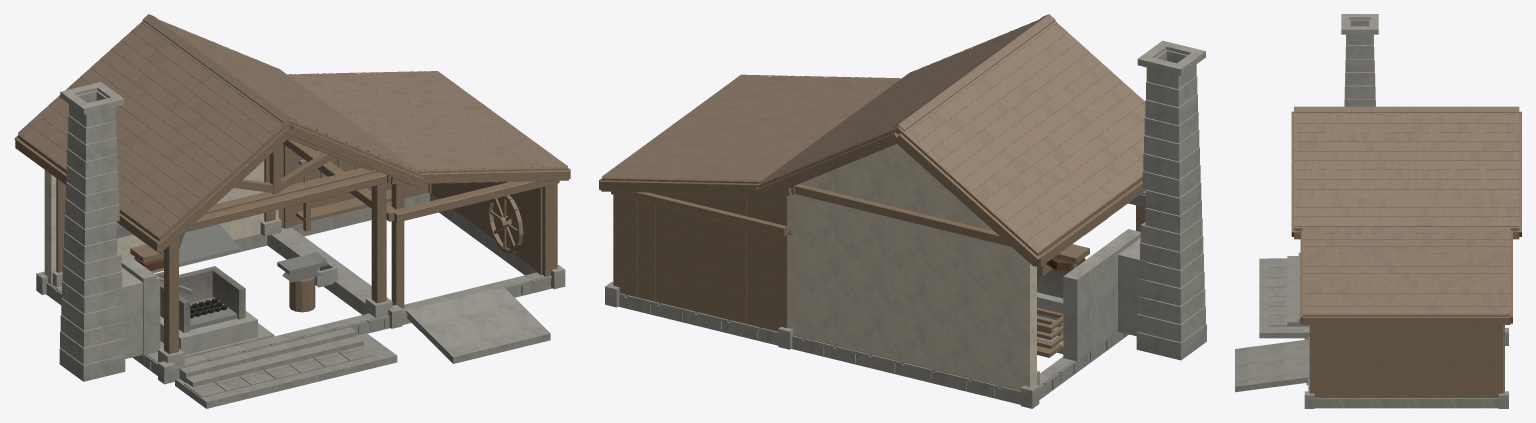
Rendered from package_smithy.glb.
3 views of the same model, side by side, from view 1: azimuth 30°, elevation 25°; view 2: azimuth 150°, elevation 25°; view 3: azimuth 270°, elevation 25° (orthographic). The views are drawn at different scales.
Visible parts, largest first — view 1: world_lowmark.forge_hall.Split oak shingle courses, world_lowmark.forge_hall.smithy.stack_courses, world_lowmark.smithy_stock_range.Split oak shingle courses, world_lowmark.forge_hall.smithy.primary_end_bent, world_lowmark.forge_hall.smithy.material_ramp, world_lowmark.smithy_stock_range.facade_walls, world_lowmark.forge_hall.Exposed shingle butts, world_lowmark.forge_hall.Seasoned shingle cohorts, world_lowmark.forge_hall.Roof edge fascia, world_lowmark.smithy_stock_range.facade_foundation_core, world_lowmark.forge_hall.facade_foundation_core, world_lowmark.forge_hall.smithy.workfront_threshold (+29 smaller); view 2: world_lowmark.forge_hall.facade_walls, world_lowmark.forge_hall.Split oak shingle courses, world_lowmark.smithy_stock_range.facade_board_skin, world_lowmark.forge_hall.smithy.stack_courses, world_lowmark.smithy_stock_range.Split oak shingle courses, world_lowmark.forge_hall.smithy.fire_screen, world_lowmark.forge_hall.Seasoned shingle cohorts, world_lowmark.forge_hall.Exposed shingle butts, world_lowmark.forge_hall.Roof edge fascia, world_lowmark.forge_hall.facade_stone, world_lowmark.forge_hall.Concealed roof course bedding, world_lowmark.smithy_stock_range.Seasoned shingle cohorts (+14 smaller); view 3: world_lowmark.forge_hall.Split oak shingle courses, world_lowmark.smithy_stock_range.facade_board_skin, world_lowmark.smithy_stock_range.Split oak shingle courses, world_lowmark.forge_hall.Seasoned shingle cohorts, world_lowmark.smithy_stock_range.Seasoned shingle cohorts, world_lowmark.forge_hall.smithy.material_ramp, world_lowmark.forge_hall.Exposed shingle butts, world_lowmark.forge_hall.smithy.stack_courses, world_lowmark.forge_hall.Concealed roof course bedding, world_lowmark.smithy_stock_range.Roof edge fascia, world_lowmark.smithy_stock_range.Exposed shingle butts, world_lowmark.smithy_stock_range.facade_stone (+9 smaller).
Boxes of the visible parts, x1,y1,x2,y2 form: world_lowmark.forge_hall.Split oak shingle courses: (22, 20, 414, 235); world_lowmark.forge_hall.smithy.stack_courses: (59, 82, 125, 381); world_lowmark.smithy_stock_range.Split oak shingle courses: (287, 71, 561, 169); world_lowmark.forge_hall.smithy.primary_end_bent: (56, 136, 386, 354); world_lowmark.forge_hall.smithy.material_ramp: (406, 287, 550, 363); world_lowmark.smithy_stock_range.facade_walls: (278, 144, 556, 276); world_lowmark.forge_hall.Exposed shingle butts: (27, 21, 420, 231); world_lowmark.forge_hall.Seasoned shingle cohorts: (18, 24, 398, 221); world_lowmark.forge_hall.Roof edge fascia: (14, 125, 424, 251); world_lowmark.smithy_stock_range.facade_foundation_core: (281, 193, 552, 324); world_lowmark.forge_hall.facade_foundation_core: (46, 231, 389, 375); world_lowmark.forge_hall.smithy.workfront_threshold: (179, 327, 363, 387); world_lowmark.forge_hall.facade_walls: (787, 144, 1036, 390); world_lowmark.forge_hall.Split oak shingle courses: (759, 20, 1145, 247); world_lowmark.smithy_stock_range.facade_board_skin: (613, 192, 787, 331); world_lowmark.forge_hall.smithy.stack_courses: (1136, 40, 1206, 360); world_lowmark.smithy_stock_range.Split oak shingle courses: (602, 75, 901, 180); world_lowmark.forge_hall.smithy.fire_screen: (1063, 229, 1147, 361); world_lowmark.forge_hall.Seasoned shingle cohorts: (774, 23, 1143, 250); world_lowmark.forge_hall.Exposed shingle butts: (791, 28, 1143, 243); world_lowmark.forge_hall.Roof edge fascia: (755, 132, 1146, 267); world_lowmark.forge_hall.facade_stone: (792, 332, 1128, 403); world_lowmark.forge_hall.Concealed roof course bedding: (759, 25, 1144, 251); world_lowmark.smithy_stock_range.Seasoned shingle cohorts: (611, 76, 896, 178); world_lowmark.forge_hall.Split oak shingle courses: (1294, 112, 1519, 226); world_lowmark.smithy_stock_range.facade_board_skin: (1309, 325, 1504, 397); world_lowmark.smithy_stock_range.Split oak shingle courses: (1303, 227, 1510, 314); world_lowmark.forge_hall.Seasoned shingle cohorts: (1295, 112, 1519, 226); world_lowmark.smithy_stock_range.Seasoned shingle cohorts: (1304, 227, 1510, 314); world_lowmark.forge_hall.smithy.material_ramp: (1235, 339, 1309, 392); world_lowmark.forge_hall.Exposed shingle butts: (1294, 112, 1519, 226); world_lowmark.forge_hall.smithy.stack_courses: (1341, 14, 1378, 106); world_lowmark.forge_hall.Concealed roof course bedding: (1294, 113, 1519, 227); world_lowmark.smithy_stock_range.Roof edge fascia: (1300, 230, 1512, 324); world_lowmark.smithy_stock_range.Exposed shingle butts: (1303, 227, 1510, 314); world_lowmark.smithy_stock_range.facade_stone: (1308, 337, 1504, 407).
Size of the model in its own units: 11.41 by 6.59 by 7.68.
Materials: 13 (12 with a texture image).
